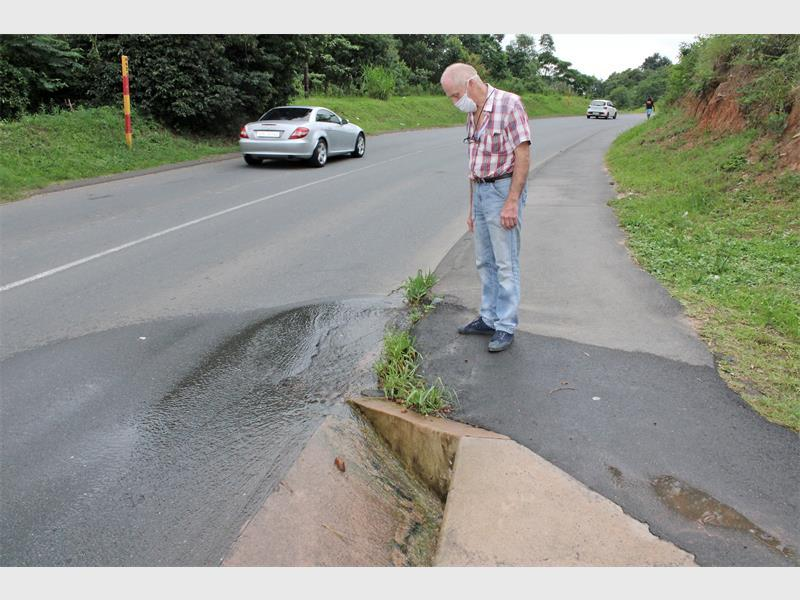water_leak: (203, 301, 476, 393)
